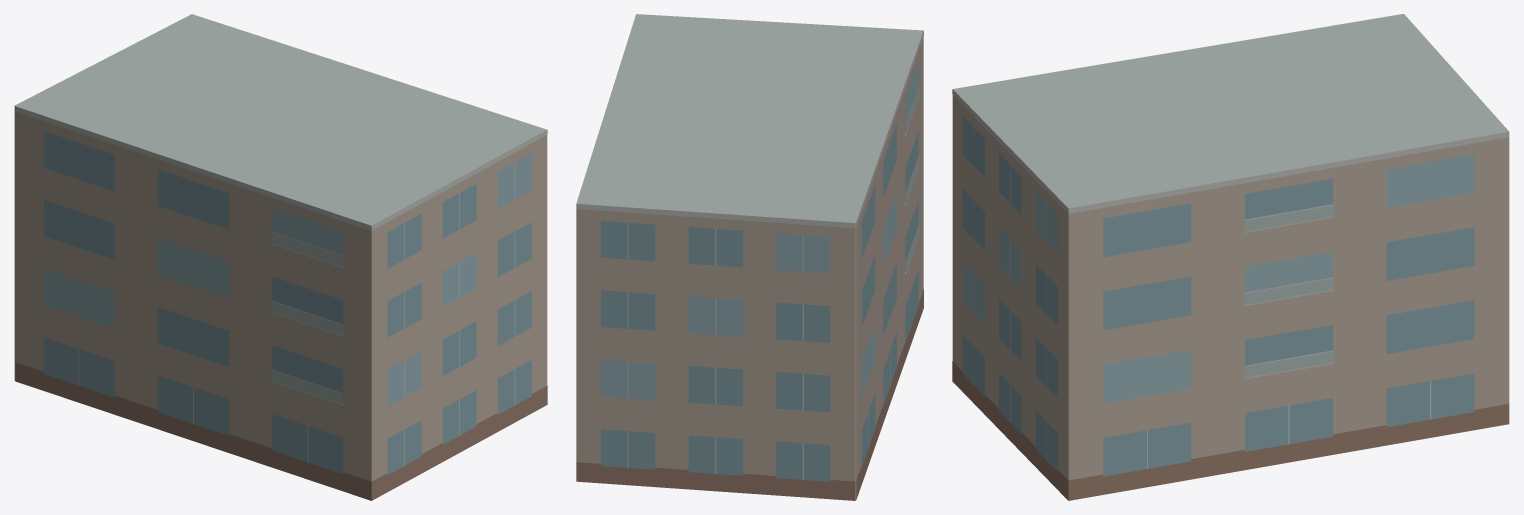
Rendered from survey-upis-32864560.glb.
3 views of the same model, side by side, from view 1: azimuth 30°, elevation 25°; view 2: azimuth 150°, elevation 25°; view 3: azimuth 270°, elevation 25° (orthographic). The views are drawn at different scales.
Parts seen in each view (by area): view 1: survey-upis-32864560.tmp; view 2: survey-upis-32864560.tmp; view 3: survey-upis-32864560.tmp.
Boxes of the visible parts, bbox=[...] form: survey-upis-32864560.tmp: bbox=[14, 14, 547, 500]; survey-upis-32864560.tmp: bbox=[576, 14, 923, 500]; survey-upis-32864560.tmp: bbox=[952, 14, 1509, 500].
Bounding box in the file's own units: 18.69 × 13.1 × 22.62.
